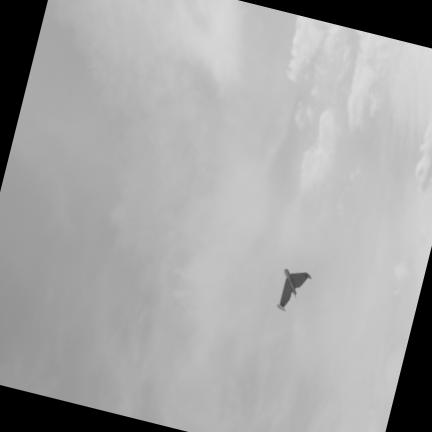Shahed: (276, 267, 312, 310)
